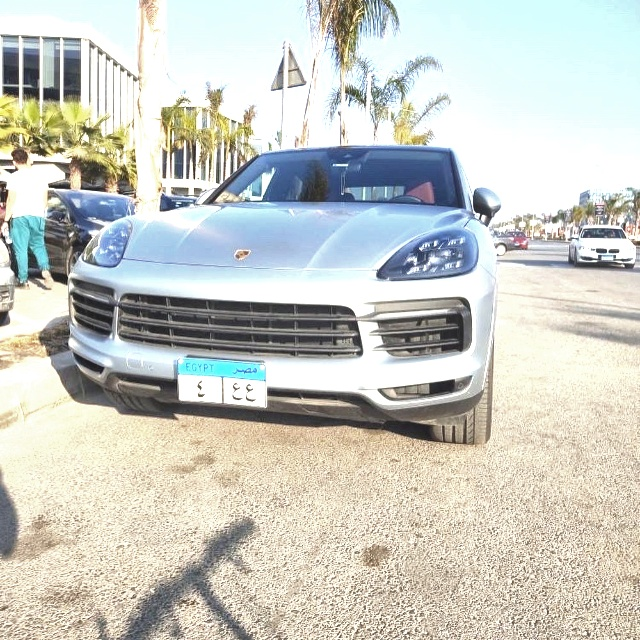License Plate: (175, 356, 269, 413)
